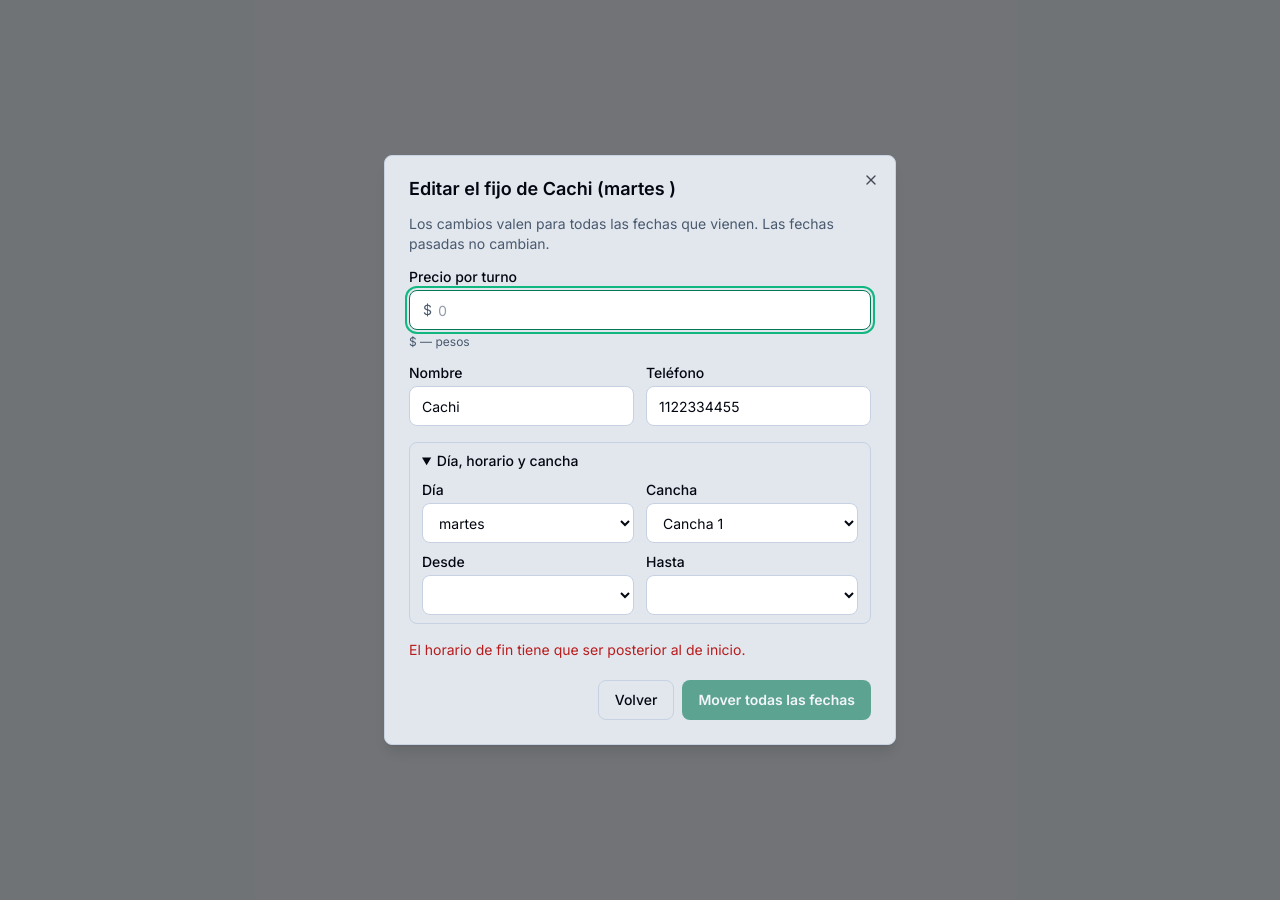
AbonadoEditDialog › con fechas ocupadas las lista y no deja mover
This screenshot has width=1280, height=900.
Select "20:00" in the dropdown labelled "Desde" at x=528, y=595, box left=422, top=575, right=634, bottom=615
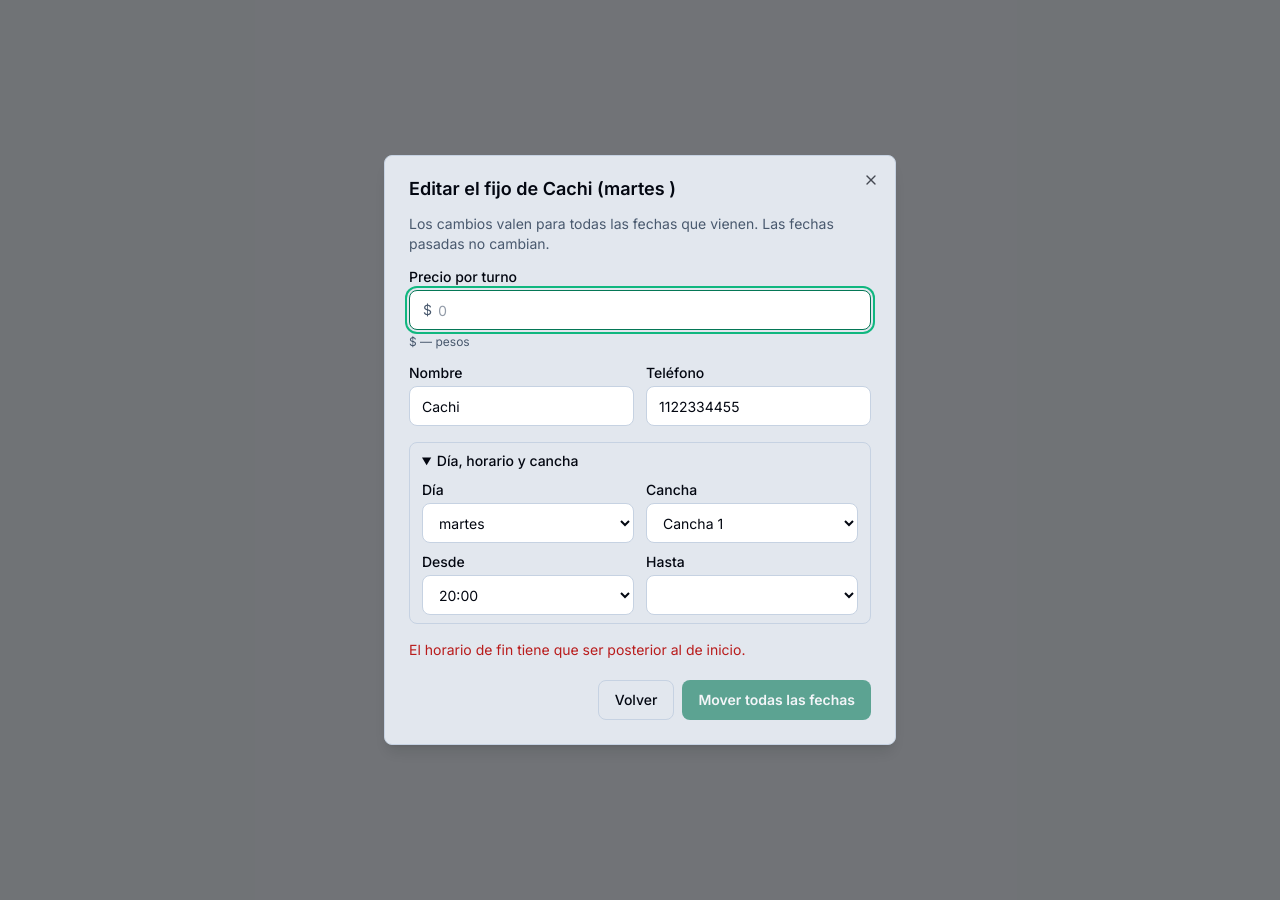
Select "21:00" in the dropdown labelled "Hasta" at x=752, y=595, box left=646, top=575, right=858, bottom=615
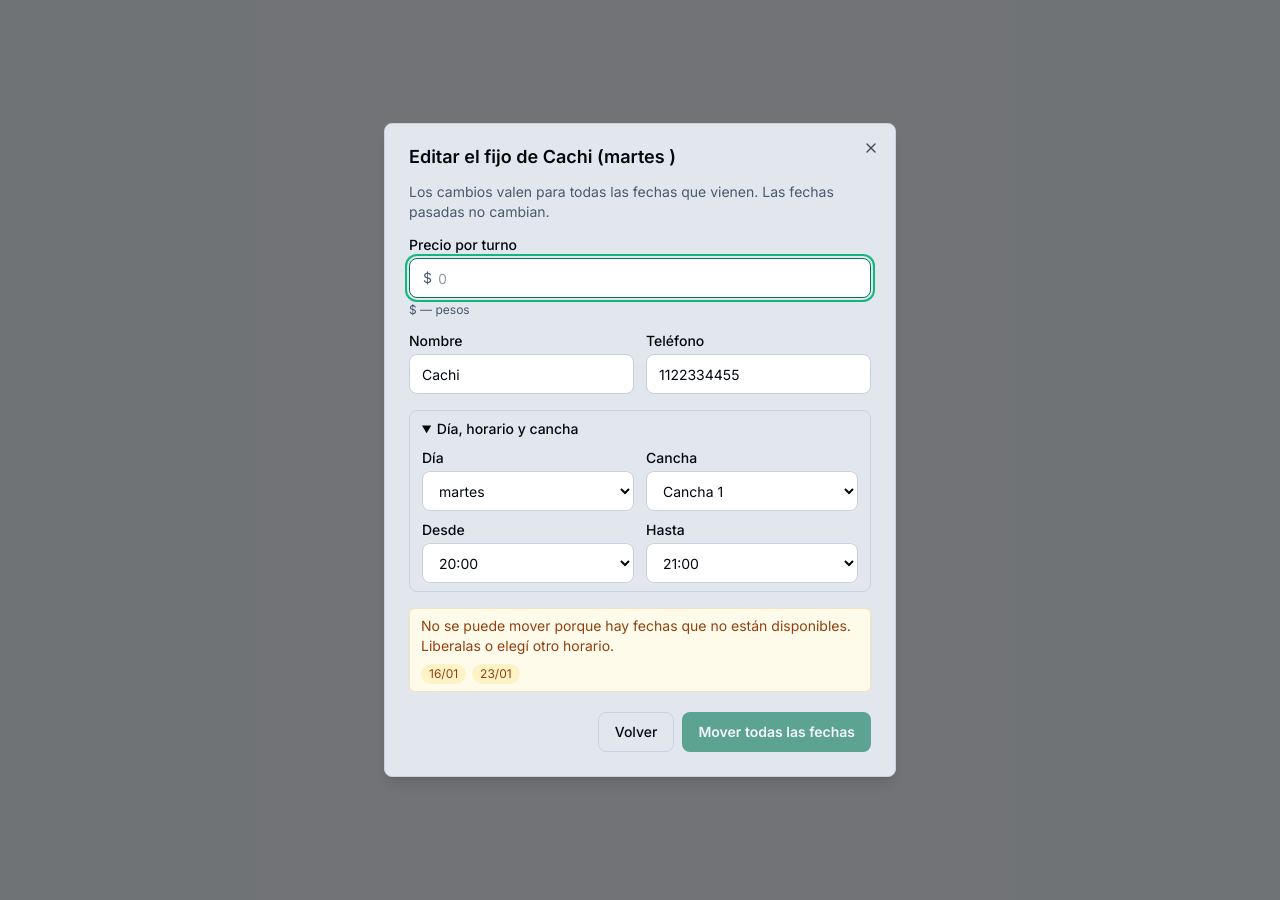
Check: the text "No se puede mover porque hay fechas que no están disponibles. Liberalas o elegí otro horario." is shown, box left=421, top=617, right=851, bottom=654
Check: the list item "16/01" is shown, box left=421, top=664, right=466, bottom=684
Check: the list item "23/01" is shown, box left=472, top=664, right=520, bottom=684
